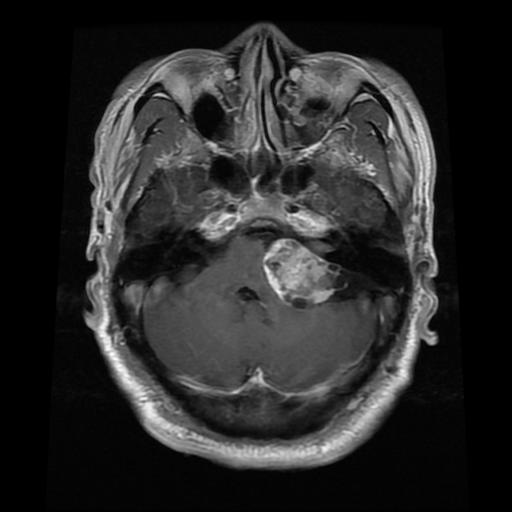Menigiomia_tumour: (263, 237, 350, 304)
